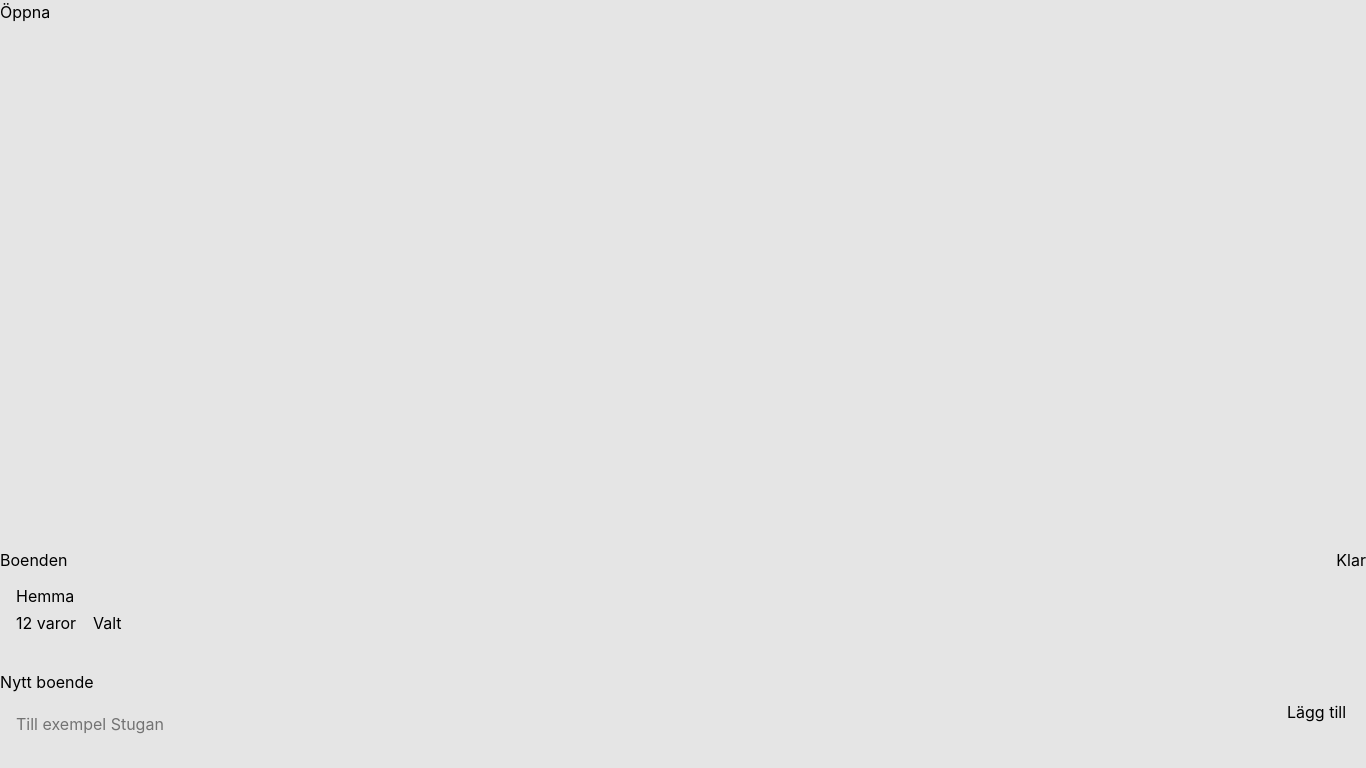
Test: SitesSheet › starts afresh, saying it was added, when the places read again have the place of a lost answer
The width and height of the screenshot is (1366, 768).
Type "Stugan" into the field labelled "Nytt boende" at (630, 724), box [0,700,1259,748]
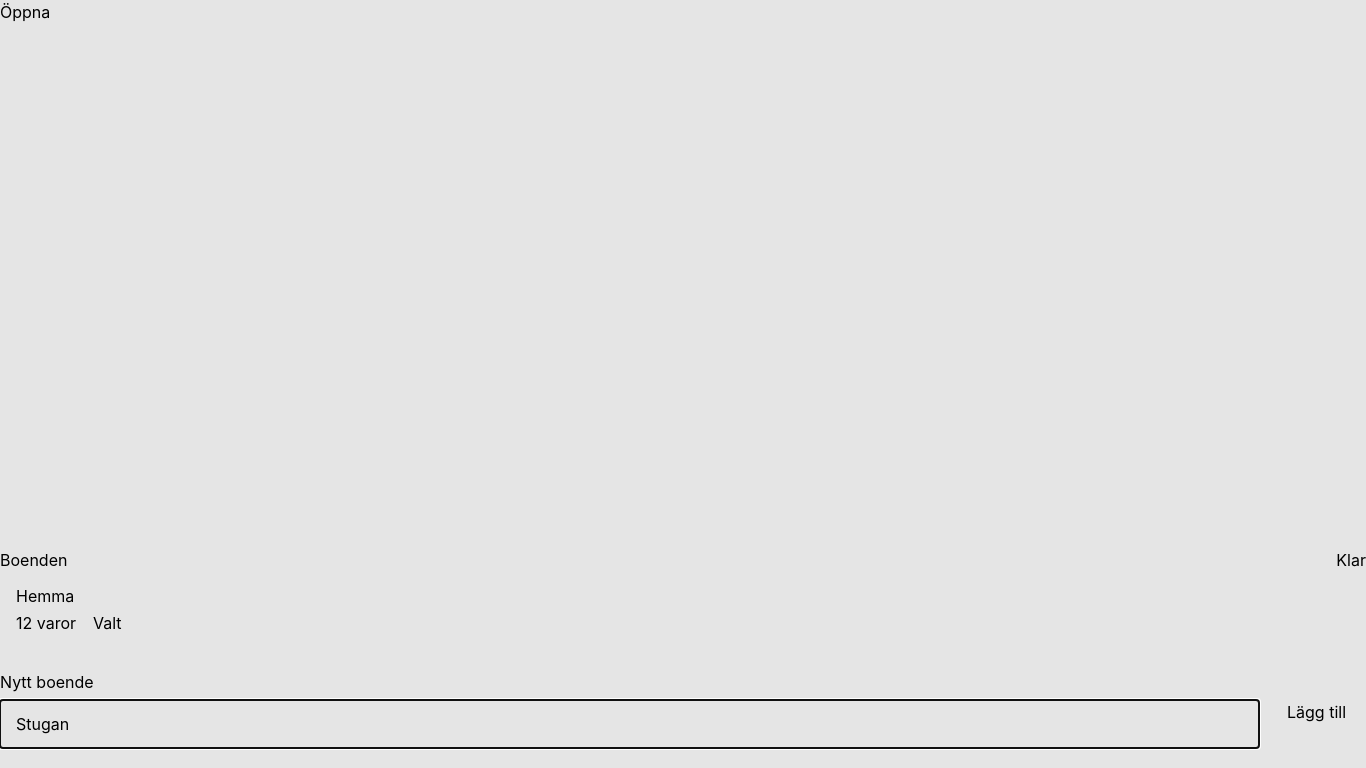
Click the button "Lägg till" at (1316, 712), box [1267,700,1365,724]
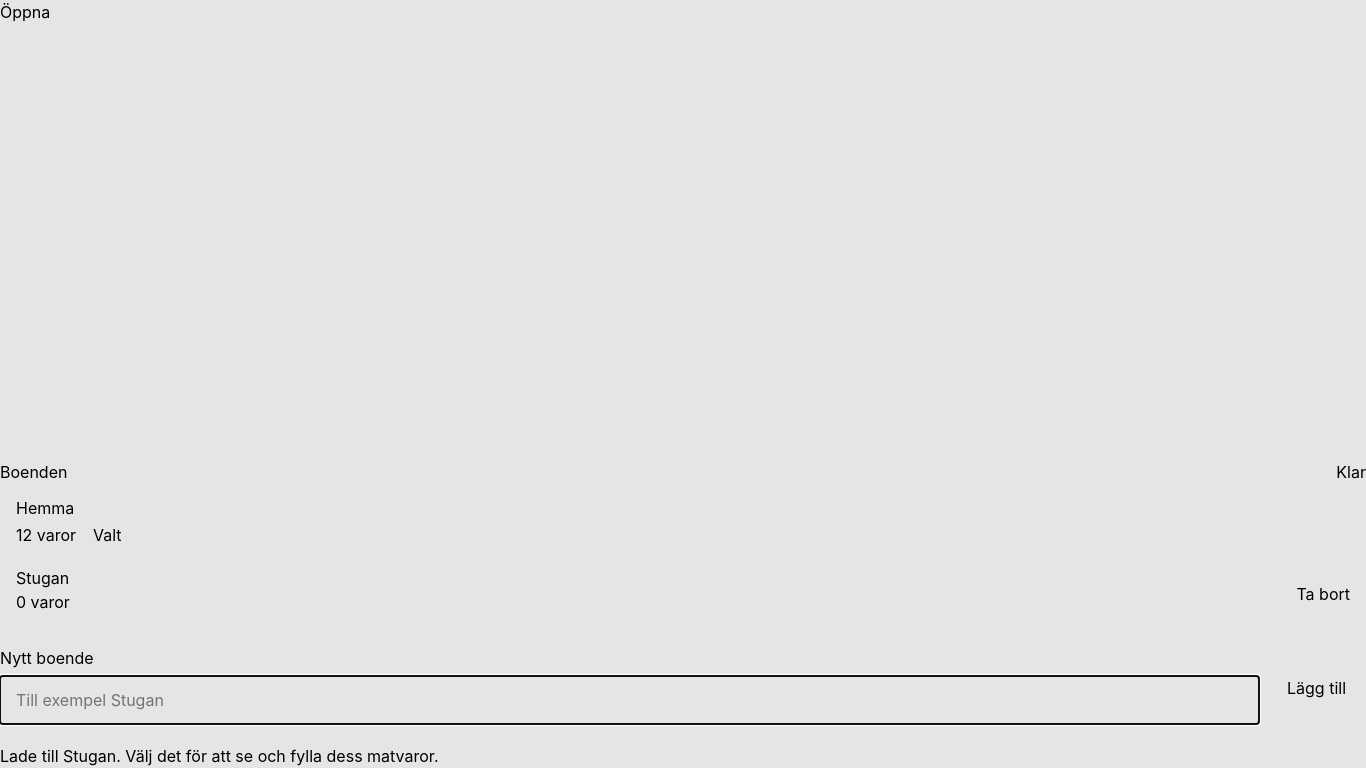
Expected: the message with test id "sites-status" reads "Lade till Stugan. Välj det för att se och fylla dess matvaror.", [0,746,438,766]
Expected: the field labelled "Nytt boende" is empty, [0,676,1259,724]
